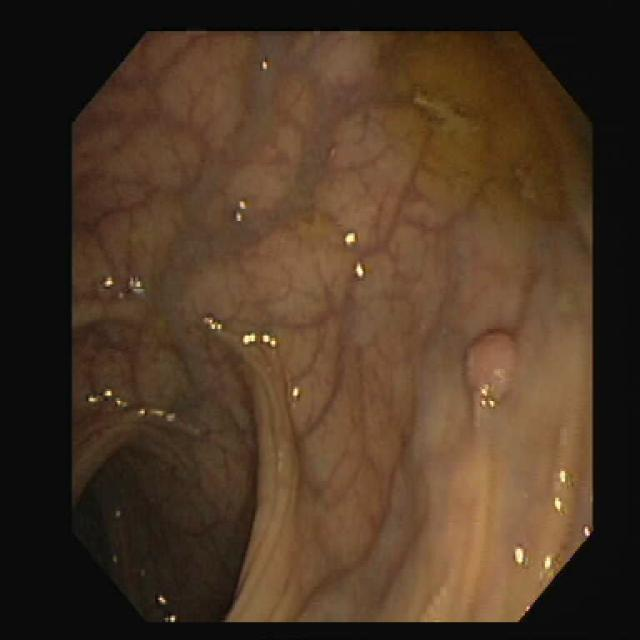tumor: (465, 327, 535, 420)
